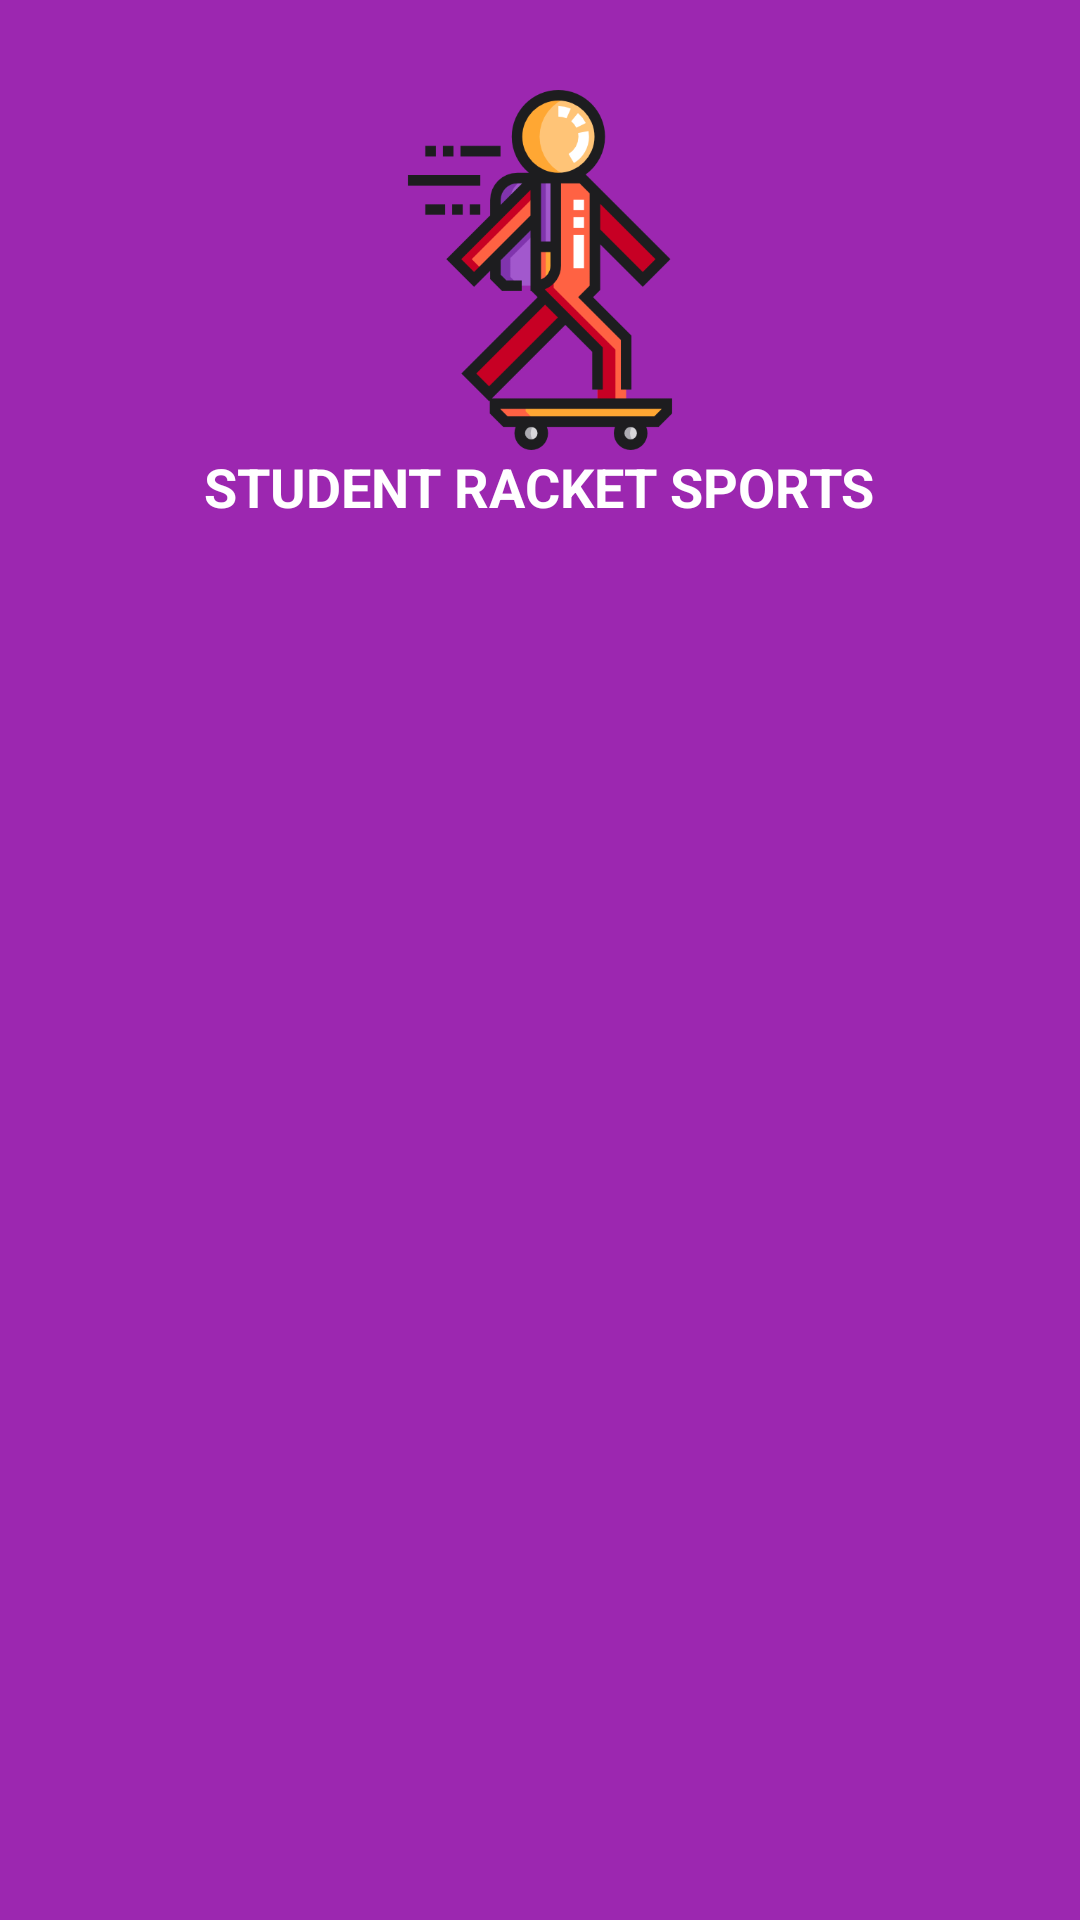

Screen size 1080*1920. Icon name, then its center in pixels as point (x, y):
skate: point (540, 270)
